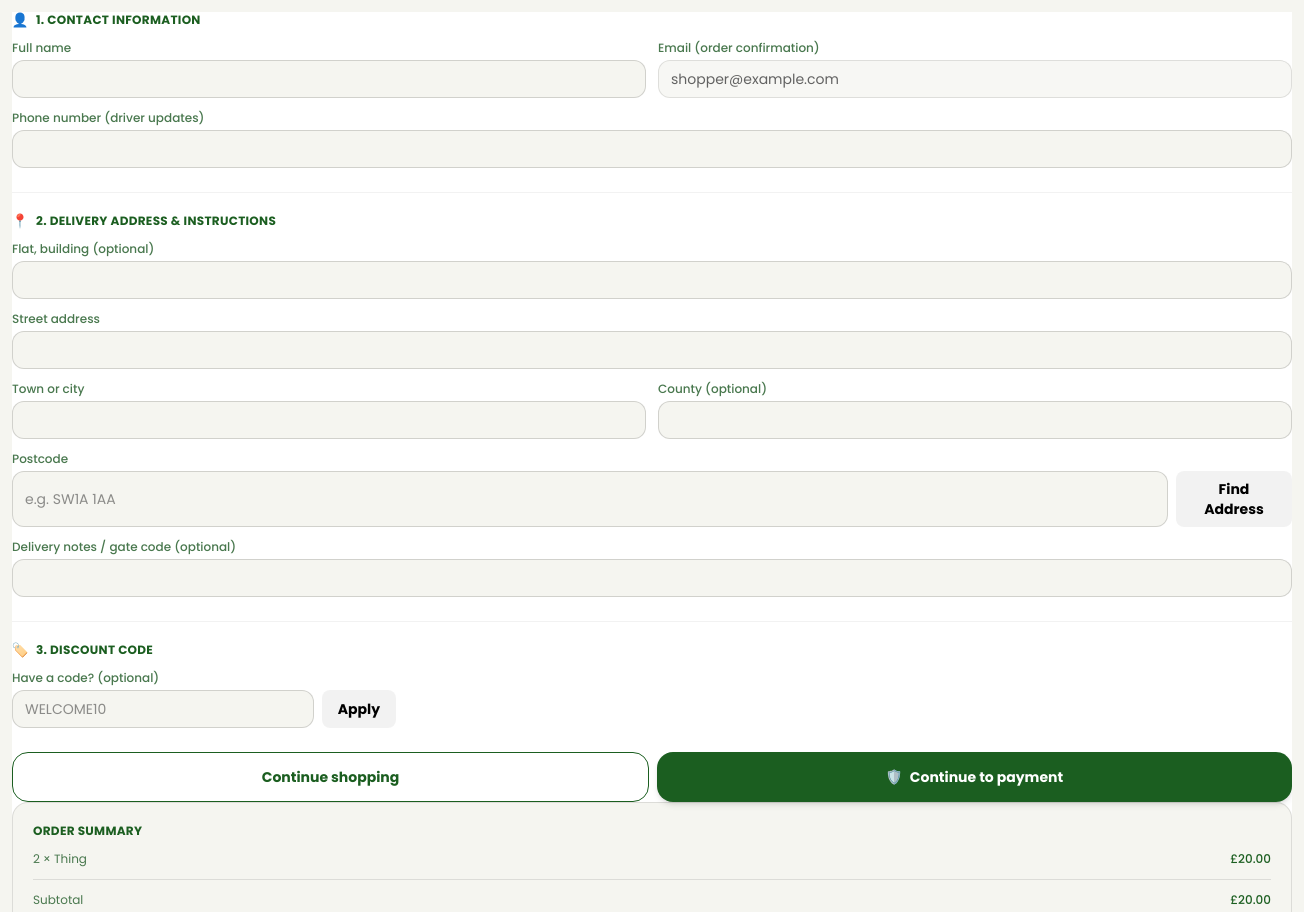
Test: Apply (R8, R9, R11, R12) › drops the discount once the field is edited after an ok answer
The image size is (1304, 912).
Type "SPEC973A" into the field with id "discountCode".
click(163, 709); type("SPEC973A")  # box [12, 690, 314, 728]
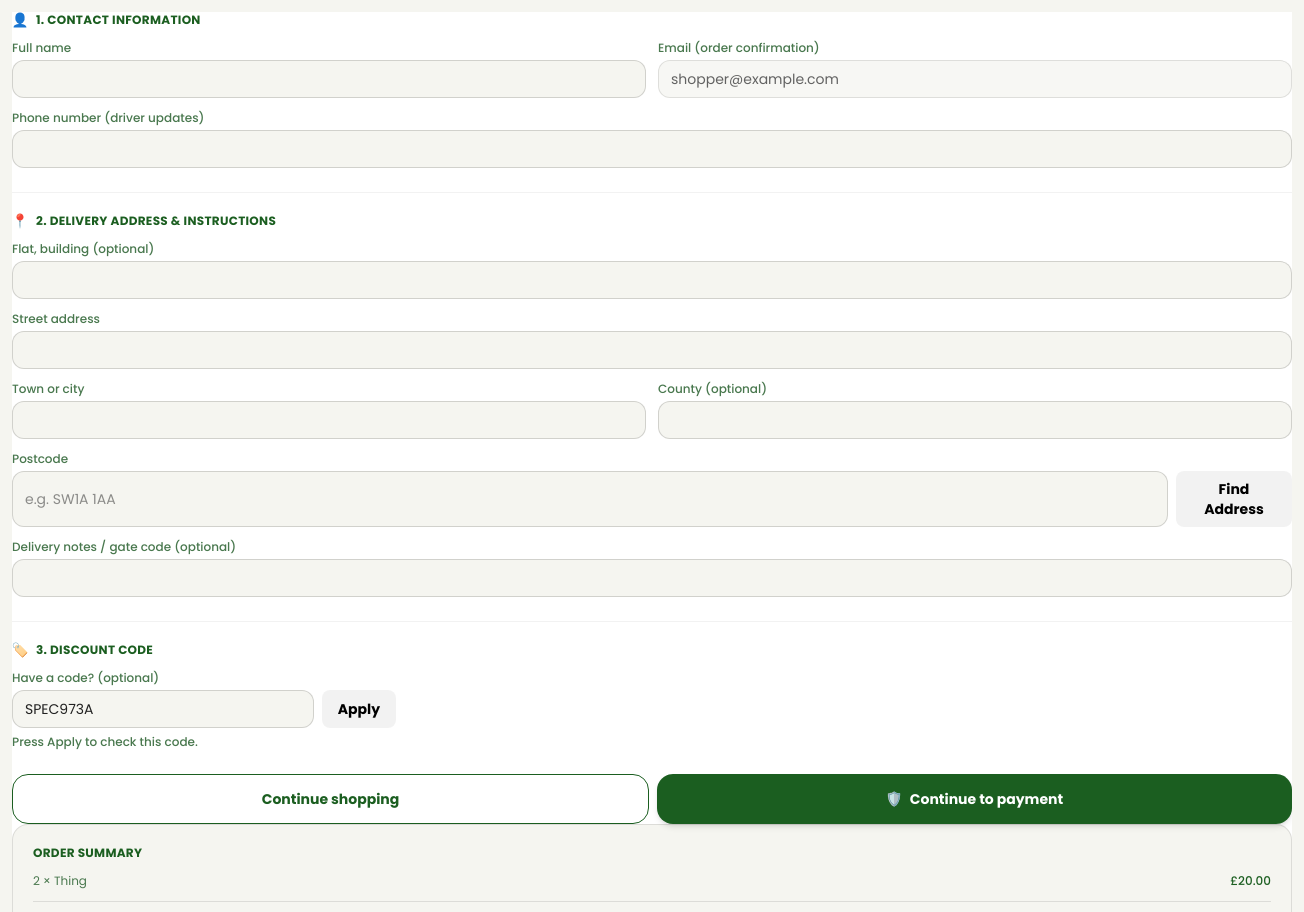
Click the button "Apply".
click(359, 709)  # box [322, 690, 396, 728]
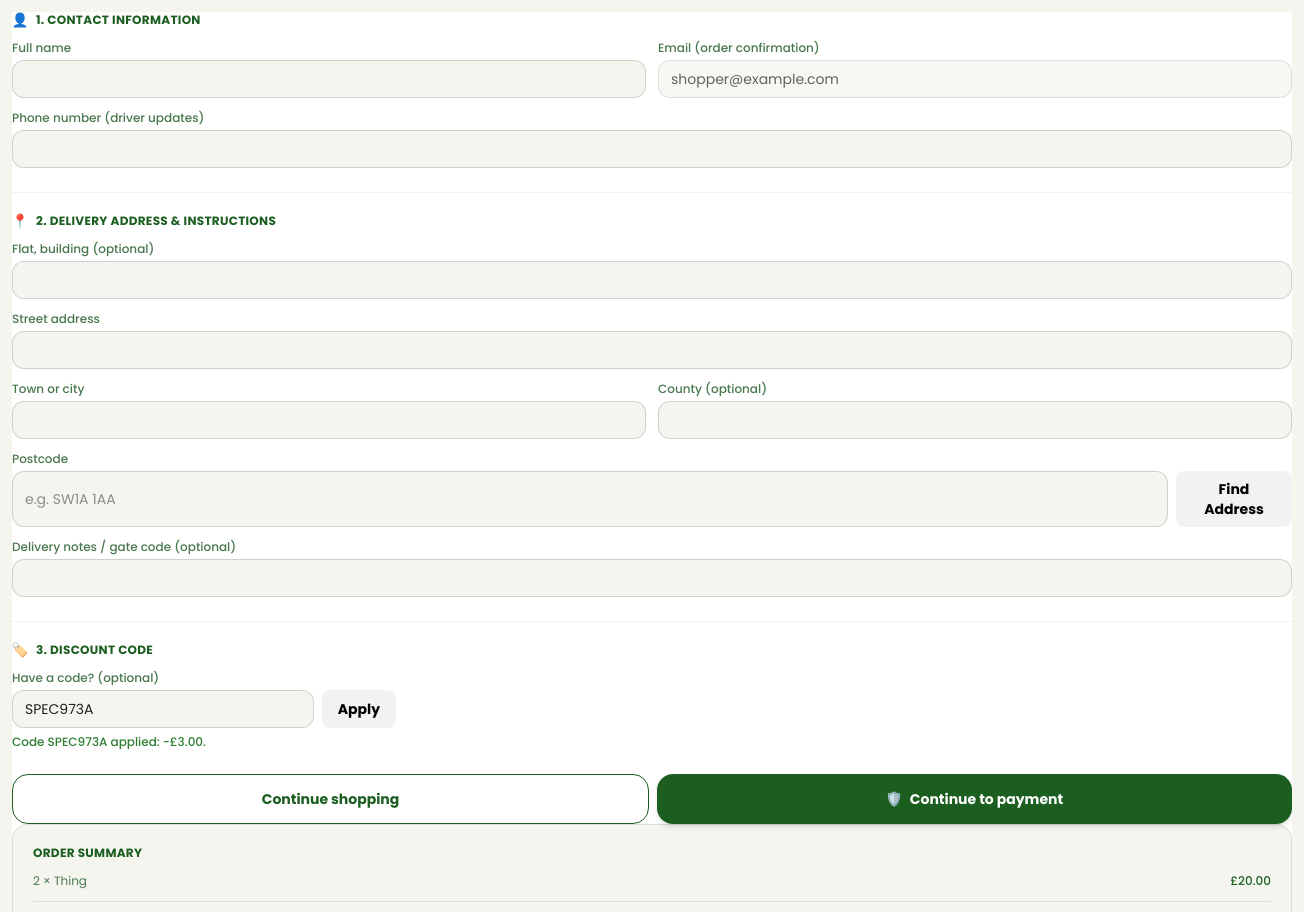
Replace the text in the field with id "discountCode" with "SPEC973" at (163, 709), box [12, 690, 314, 728]
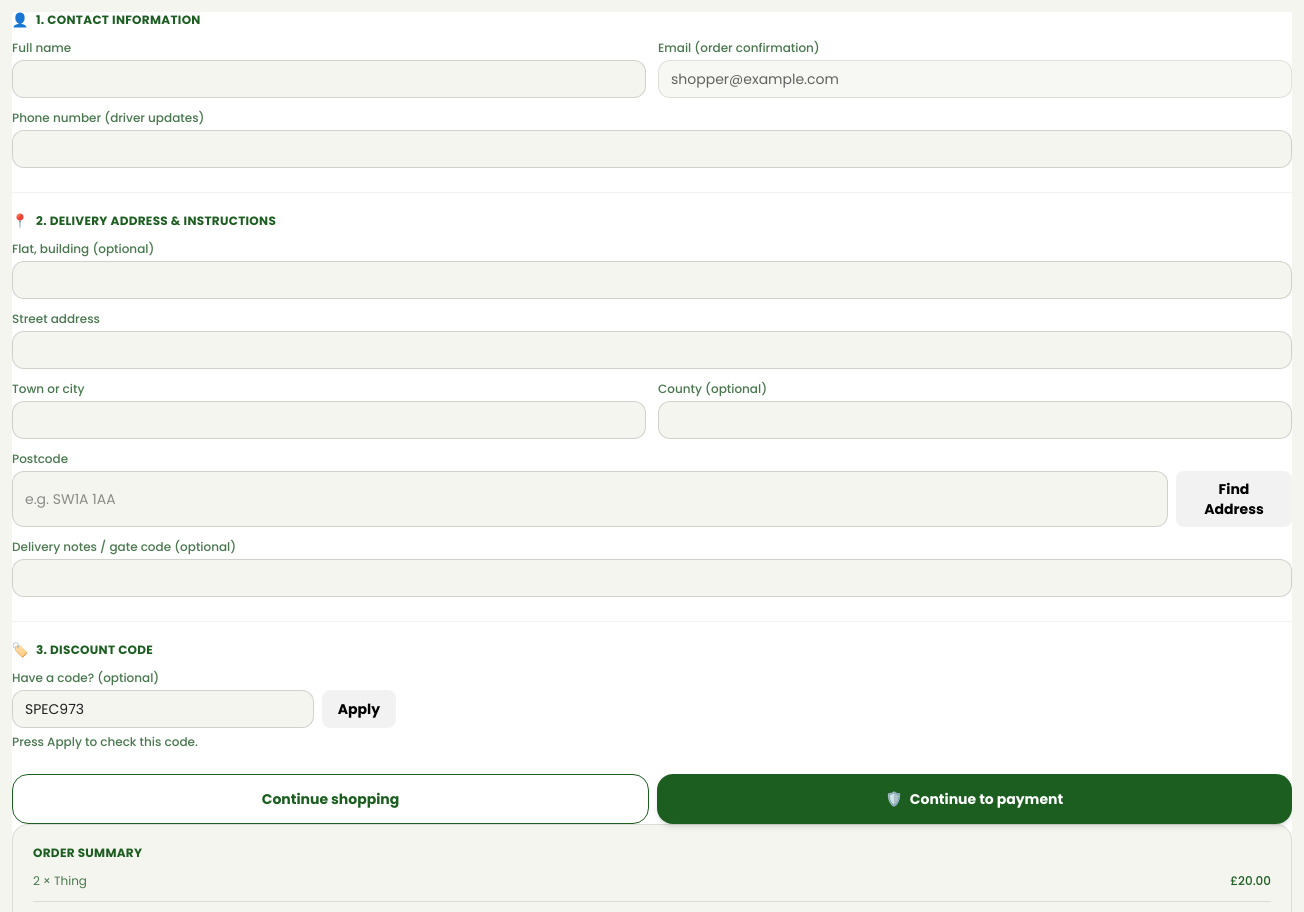
Now the text "Press Apply to check this code." is shown, box [12, 733, 198, 750]
